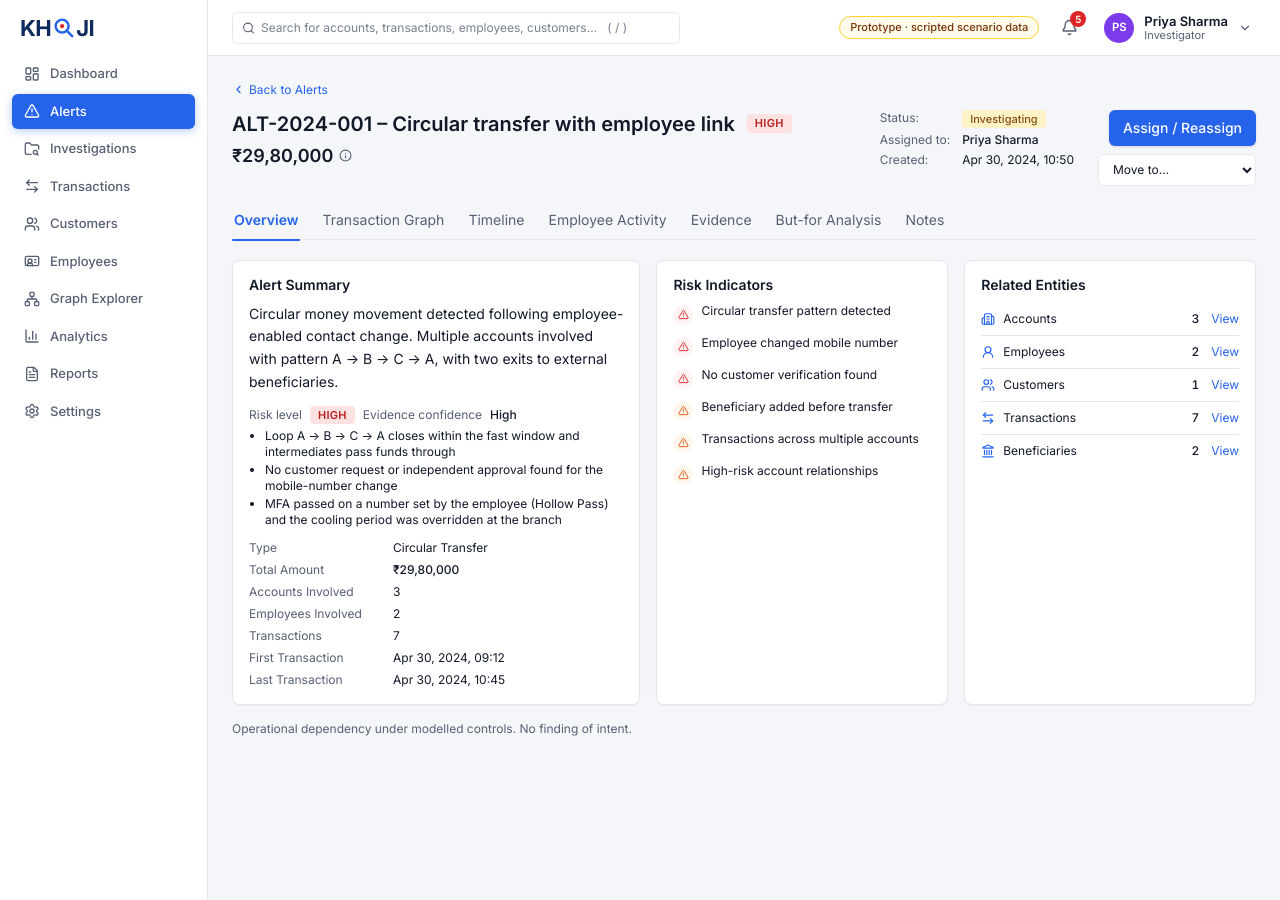
Scenario: status and decisions › walks the allowed transitions, blocking invalid ones
INVESTIGATING → PENDING_EVIDENCE → INVESTIGATING (loop)
Step 1. Select "Pending Evidence" in the dropdown named "Change status" → (1177, 170), box [1098, 154, 1256, 186]
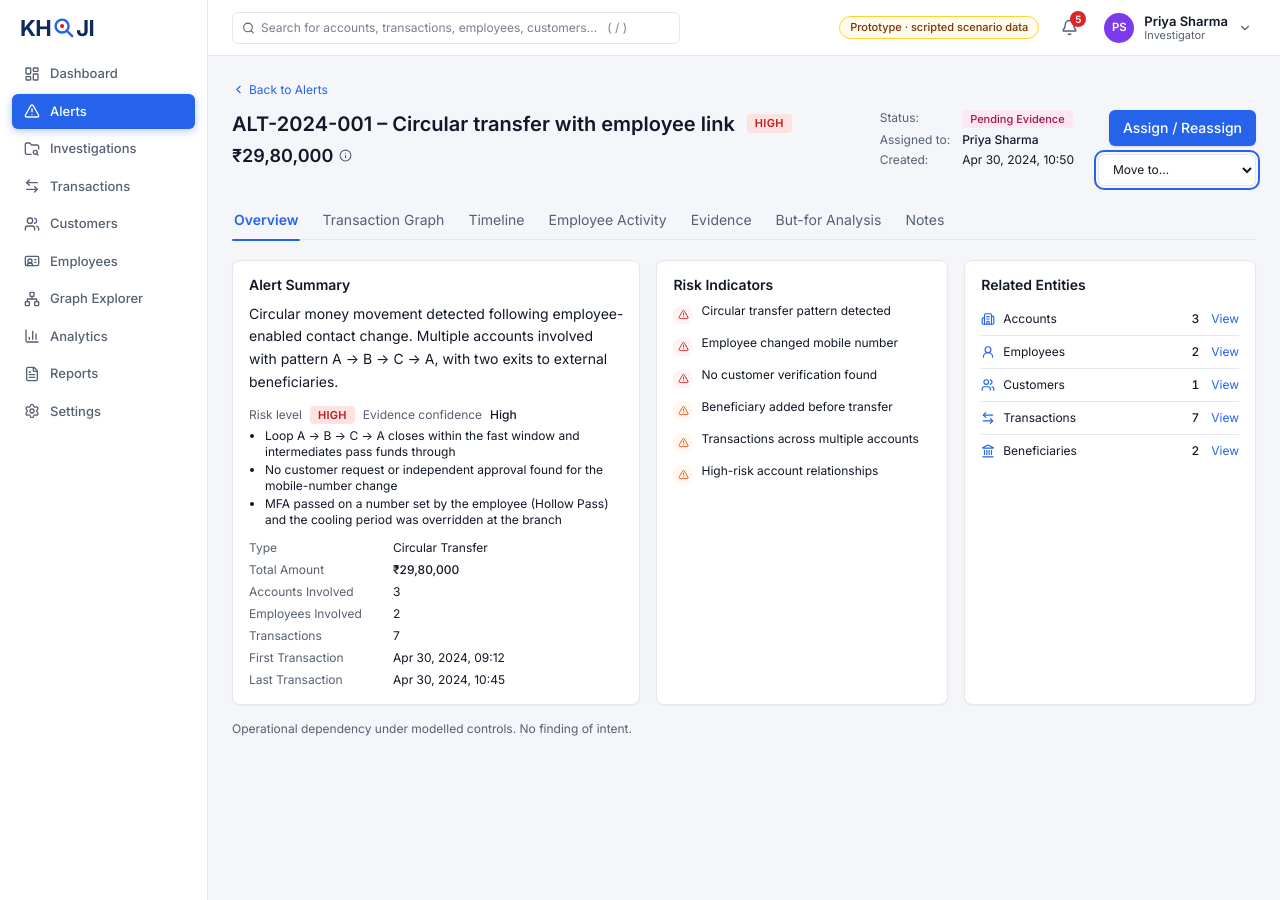
Expected: the text "Pending Evidence" is shown, [962, 110, 1073, 128]
Step 2. Select "Investigating" in the dropdown named "Change status" → (1177, 170), box [1098, 154, 1256, 186]
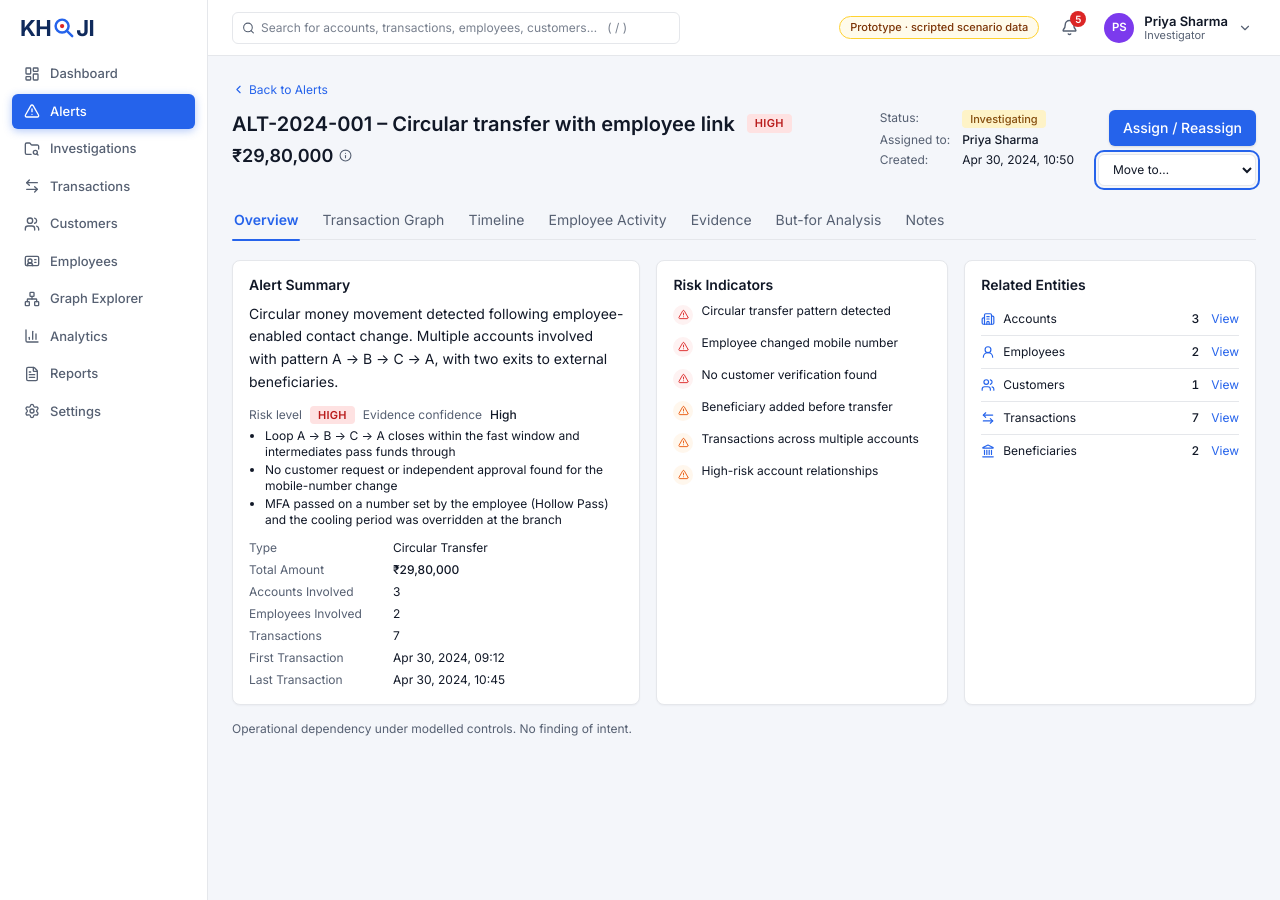
Expected: the text "Investigating" is shown, [962, 110, 1046, 128]
